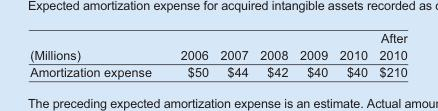table: (29, 29, 406, 80)
table column: (29, 29, 165, 80), (165, 29, 213, 80), (213, 29, 253, 80), (253, 29, 293, 80), (293, 29, 333, 80), (333, 29, 372, 80), (372, 29, 406, 80)
table column header: (29, 29, 406, 63)
table row: (29, 29, 406, 63), (29, 63, 406, 80)
